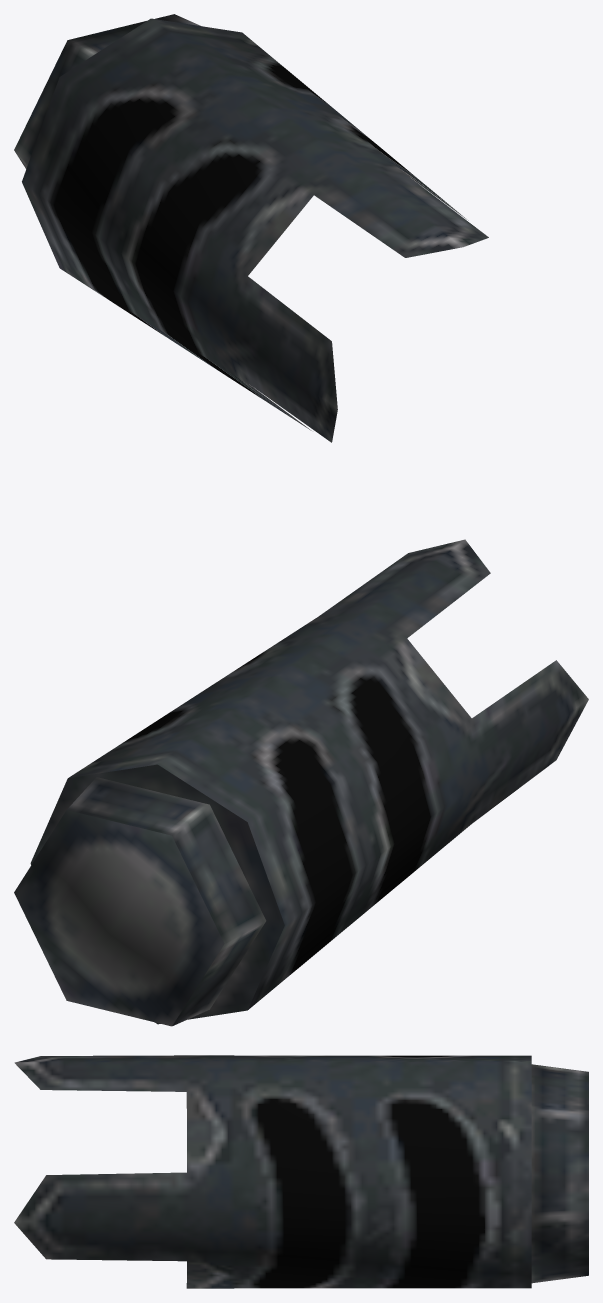
The model's file is Assault_Rifle_bq_qt_01_lod_Stock_LOD_(000873).glb.
3 renders of one model, top to bottom at view 1: azimuth 30°, elevation 25°; view 2: azimuth 150°, elevation 25°; view 3: azimuth 270°, elevation 25°, orthographic. The views are drawn at different scales.
Parts seen in each view (by area): view 1: bq_qt_01_lod; view 2: bq_qt_01_lod; view 3: bq_qt_01_lod.
Boxes of the visible parts, x1,y1,x2,y2 form: bq_qt_01_lod: [14, 14, 488, 442]; bq_qt_01_lod: [14, 539, 588, 1026]; bq_qt_01_lod: [14, 1055, 588, 1288].
Bounding box in the file's own units: 0.0507 × 0.0495 × 0.118.
1 material, 1 textured.
